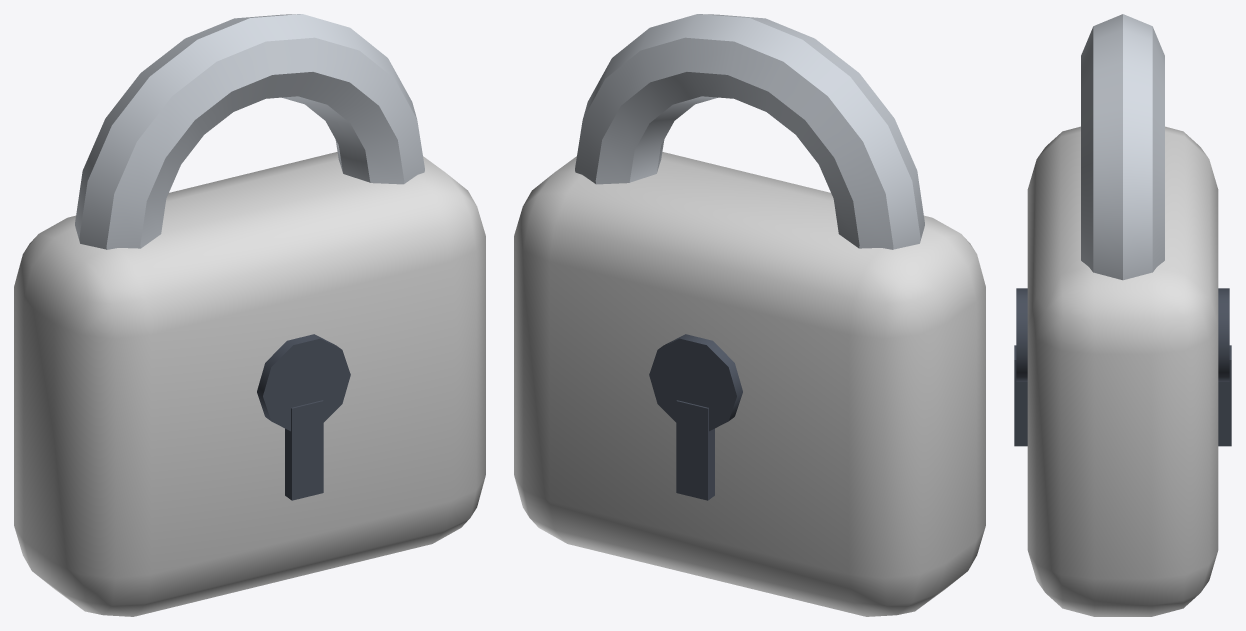
Rendered from padlock.fbx.
3 views of the same model, side by side, from view 1: azimuth 30°, elevation 25°; view 2: azimuth 150°, elevation 25°; view 3: azimuth 270°, elevation 25° (orthographic). The views are drawn at different scales.
Visible parts, largest first — view 1: padlock; view 2: padlock; view 3: padlock.
Part boxes in pixels (x1,y1,x2,y2): padlock: [14, 14, 485, 616]; padlock: [514, 14, 985, 616]; padlock: [1014, 14, 1231, 616].
Bounding box in the file's own units: 0.384 × 0.4752 × 0.1824.
